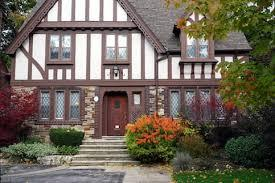casa: (9, 2, 252, 150)
